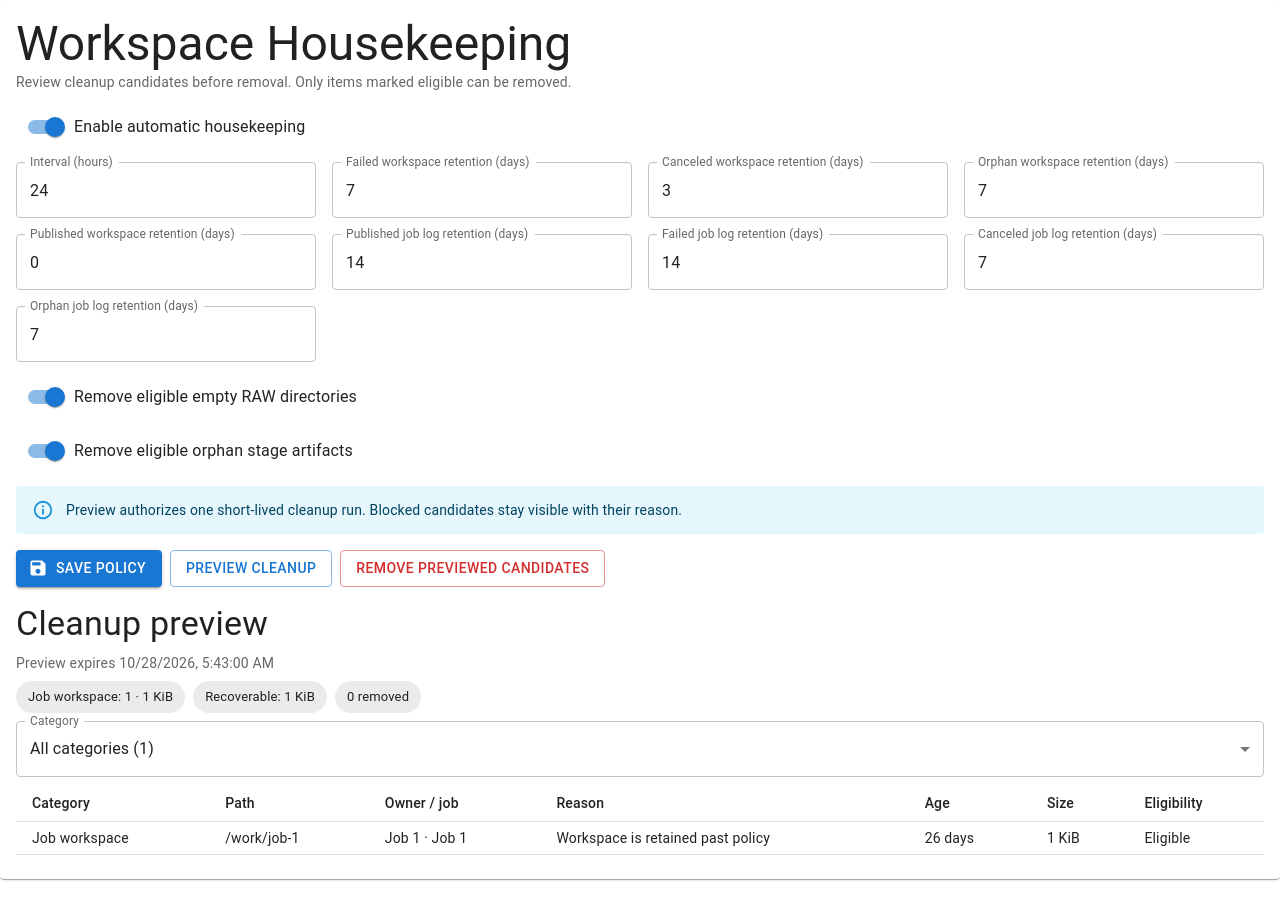
Test: Settings housekeeping preview authorization › passes the preview ID to run and consumes the preview after success
The image size is (1280, 900).
Click the button "Remove previewed candidates" at (473, 568), box [340,550,605,586]
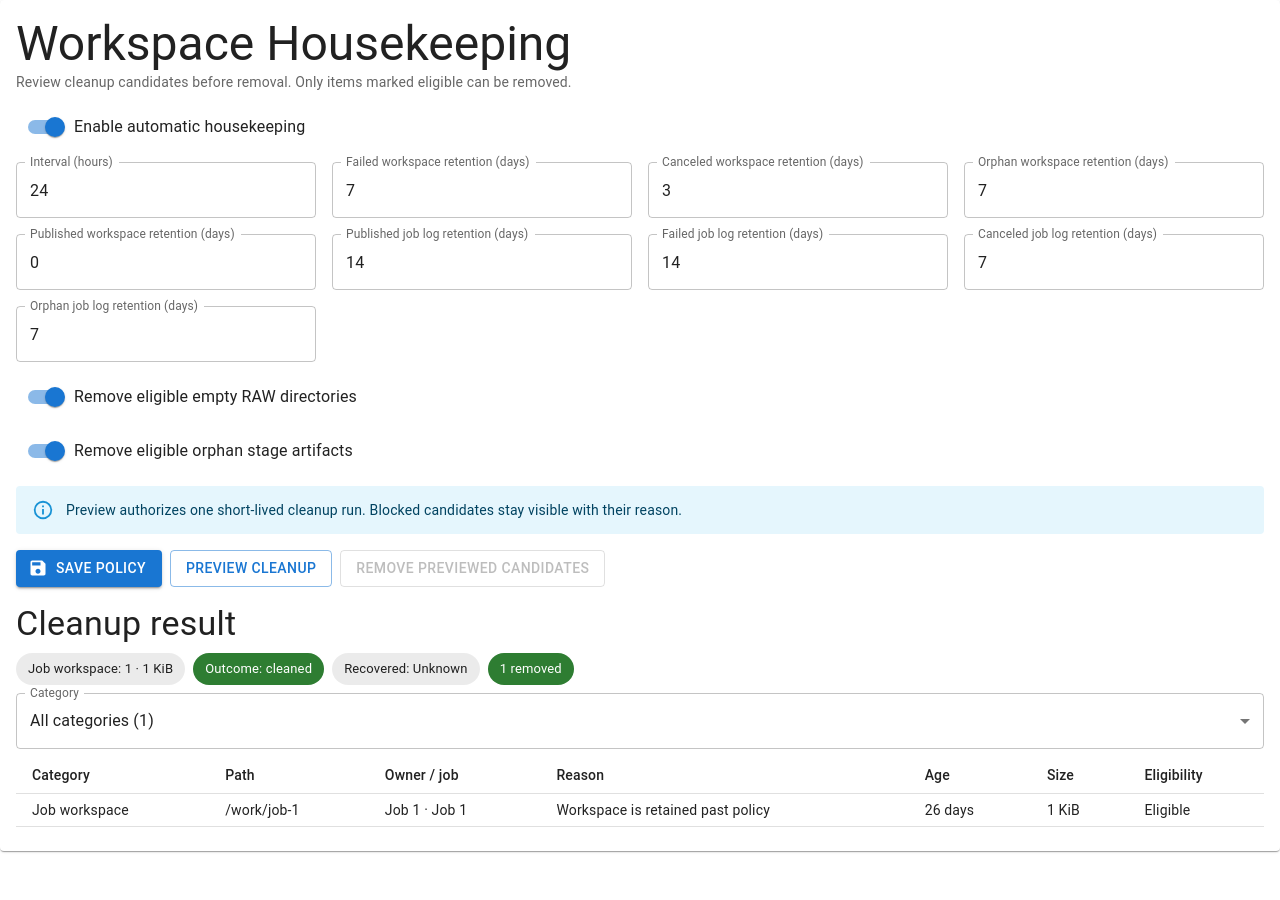
expect the button "Remove previewed candidates" is disabled: met, box [340,550,605,586]
expect the heading "Cleanup result" is shown: met, box [16,602,236,642]
expect the text "Outcome: cleaned" is shown: met, box [205,661,312,676]
